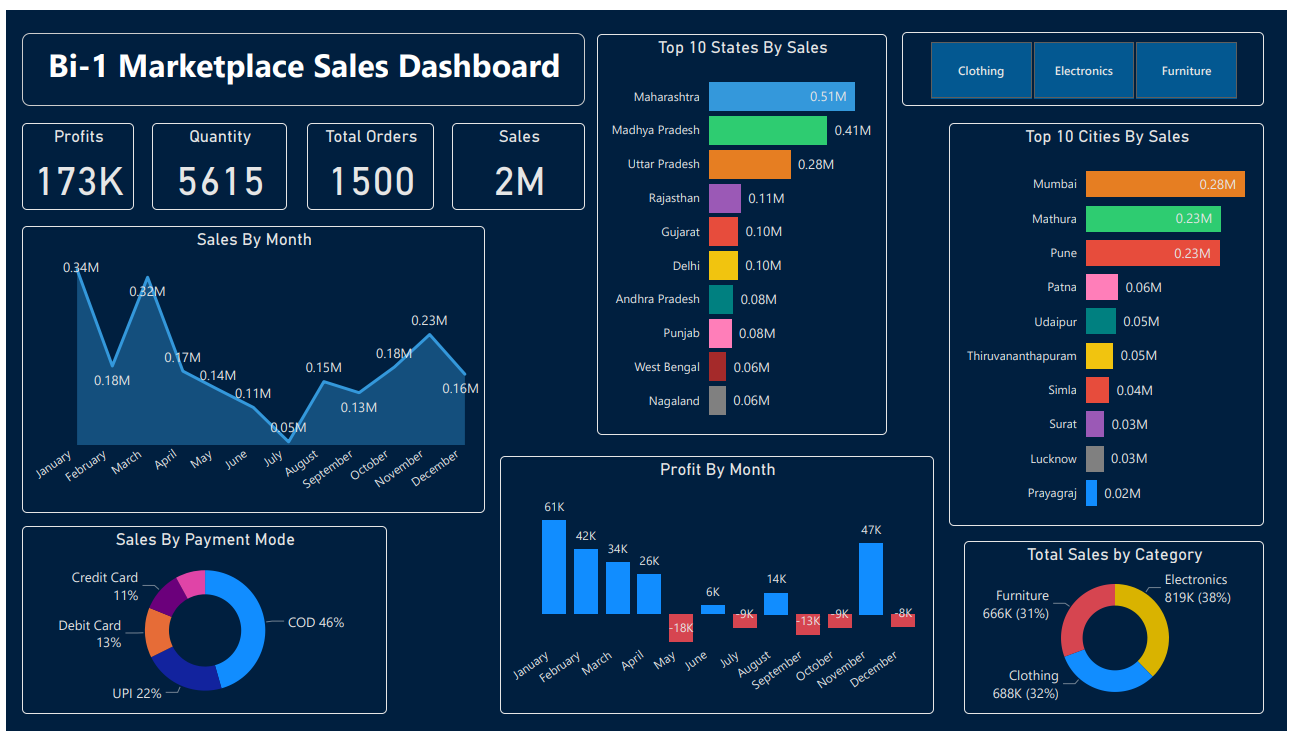

What the dashboard file says about the page in this screenshot:
{"tool":"powerbi","page":{"name":"Page 1","canvas":[1280,720],"ordinal":0},"visuals":[{"type":"textbox","box":[16.5,23.3,562.6,72.7],"z":0},{"type":"donutChart","title":"Total Sales by Category","fields":{"Category":["Details.Category"],"Y":["Sum(Details.Total Sales)"]},"box":[958.2,531.3,300,173.1],"z":1000},{"type":"donutChart","title":"Sales By Payment Mode","fields":{"Category":["Details.PaymentMode"],"Y":["CountNonNull(Details.Order ID)"]},"box":[16.4,516.4,364.2,188.1],"z":2000},{"type":"barChart","title":"Top 10 States By Sales","fields":{"Category":["Orders.State"],"Y":["Sum(Details.Total Sales)"]},"box":[591,23.9,289.6,401.5],"z":3000},{"type":"barChart","title":"Top 10 Cities By Sales","fields":{"Y":["Sum(Details.Total Sales)"],"Category":["Orders.City"]},"box":[943.3,113.4,314.9,403],"z":4000},{"type":"areaChart","title":"Sales By Month","fields":{"Category":["Orders.Order Date.Variation.Date Hierarchy.Month"],"Y":["Sum(Details.Total Sales)"]},"box":[16.4,216.4,462.7,286.6],"z":5000},{"type":"columnChart","title":"Profit By Month","fields":{"Category":["Orders.Order Date.Variation.Date Hierarchy.Month"],"Y":["Sum(Details.Total Profits)"]},"box":[494,446.3,434.3,258.2],"z":6000},{"type":"card","title":"Profits","fields":{"Values":["Sum(Details.Total Profits)"]},"box":[15.8,113.4,111.9,86.6],"z":7000},{"type":"card","title":"Total Orders","fields":{"Values":["CountNonNull(Details.Order ID)"]},"box":[300.9,113.4,126.9,86.6],"z":8000},{"type":"card","title":"Sales","fields":{"Values":["Sum(Details.Total Sales)"]},"box":[445.7,113.4,132.8,86.6],"z":9000},{"type":"card","title":"Quantity","fields":{"Values":["Sum(Details.Quantity)"]},"box":[145.7,113.4,135.8,86.6],"z":10000},{"type":"slicer","fields":{"Values":["Details.Category"]},"box":[896.1,22,362.3,74.1],"z":11000}]}

Visuals, with their boxes in screenshot pixels (x1, y1, x2, y2), scaled from the page's 1280x720 canvas onto the 1292x736 screenshot:
textbox: locate(17, 24, 585, 98)
"Total Sales by Category" donutChart: locate(967, 543, 1270, 720)
"Sales By Payment Mode" donutChart: locate(17, 528, 384, 720)
"Top 10 States By Sales" barChart: locate(597, 24, 889, 435)
"Top 10 Cities By Sales" barChart: locate(952, 116, 1270, 528)
"Sales By Month" areaChart: locate(17, 221, 484, 514)
"Profit By Month" columnChart: locate(499, 456, 937, 720)
"Profits" card: locate(16, 116, 129, 204)
"Total Orders" card: locate(304, 116, 432, 204)
"Sales" card: locate(450, 116, 584, 204)
"Quantity" card: locate(147, 116, 284, 204)
slicer - Details.Category: locate(905, 22, 1270, 98)
